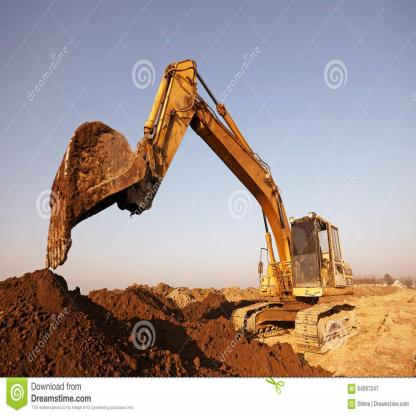excavator: (39, 44, 362, 360)
